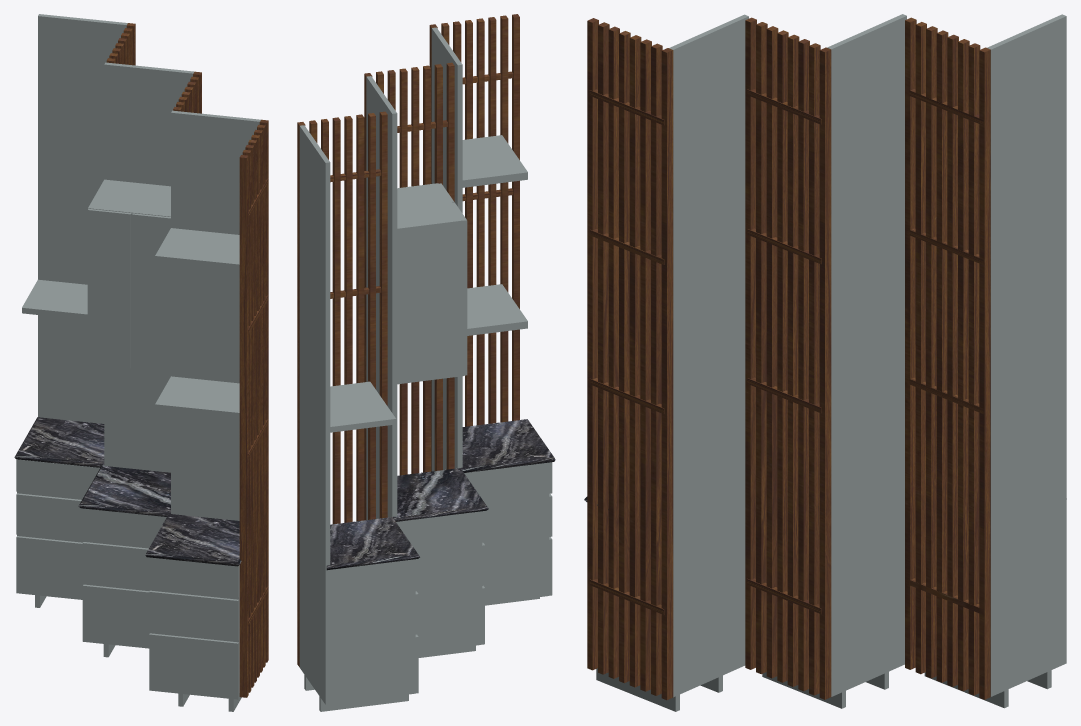
Rendered from wallpartition.obj.
3 renders of one model, left to right at view 1: azimuth 30°, elevation 25°; view 2: azimuth 150°, elevation 25°; view 3: azimuth 270°, elevation 25°, orthographic. The views are drawn at different scales.
Parts seen in each view (by area): view 1: Cube.003_Cube.004, Cube.036_Cube.041, Cube.002_Cube.003, Cube.005_Cube.006, Cube.010_Cube.011, Cube.031_Cube.036, Cube.024_Cube.029; view 2: Cube.003_Cube.004, Cube.031_Cube.036, Cube.036_Cube.041, Cube.024_Cube.029, Cube.002_Cube.003, Cube.005_Cube.006, Cube.010_Cube.011; view 3: Cube.003_Cube.004, Cube.024_Cube.029, Cube.036_Cube.041, Cube.031_Cube.036.
Boxes of the visible parts, x1=… form: Cube.003_Cube.004: x1=16, y1=14, x2=260, y2=711; Cube.036_Cube.041: x1=239, y1=119, x2=268, y2=697; Cube.002_Cube.003: x1=145, y1=512, x2=241, y2=566; Cube.005_Cube.006: x1=78, y1=464, x2=170, y2=516; Cube.010_Cube.011: x1=14, y1=417, x2=104, y2=467; Cube.031_Cube.036: x1=106, y1=23, x2=135, y2=65; Cube.024_Cube.029: x1=173, y1=71, x2=201, y2=113; Cube.003_Cube.004: x1=299, y1=27, x2=552, y2=711; Cube.031_Cube.036: x1=297, y1=111, x2=387, y2=666; Cube.036_Cube.041: x1=429, y1=14, x2=519, y2=471; Cube.024_Cube.029: x1=364, y1=62, x2=454, y2=520; Cube.002_Cube.003: x1=460, y1=419, x2=555, y2=472; Cube.005_Cube.006: x1=393, y1=468, x2=488, y2=521; Cube.010_Cube.011: x1=326, y1=517, x2=419, y2=570; Cube.003_Cube.004: x1=596, y1=14, x2=1066, y2=711; Cube.024_Cube.029: x1=745, y1=17, x2=831, y2=699; Cube.036_Cube.041: x1=587, y1=18, x2=673, y2=700; Cube.031_Cube.036: x1=905, y1=17, x2=990, y2=699.
Bounding box in the file's own units: 28.31 × 120 × 79.1.
4 materials, 2 textured.
